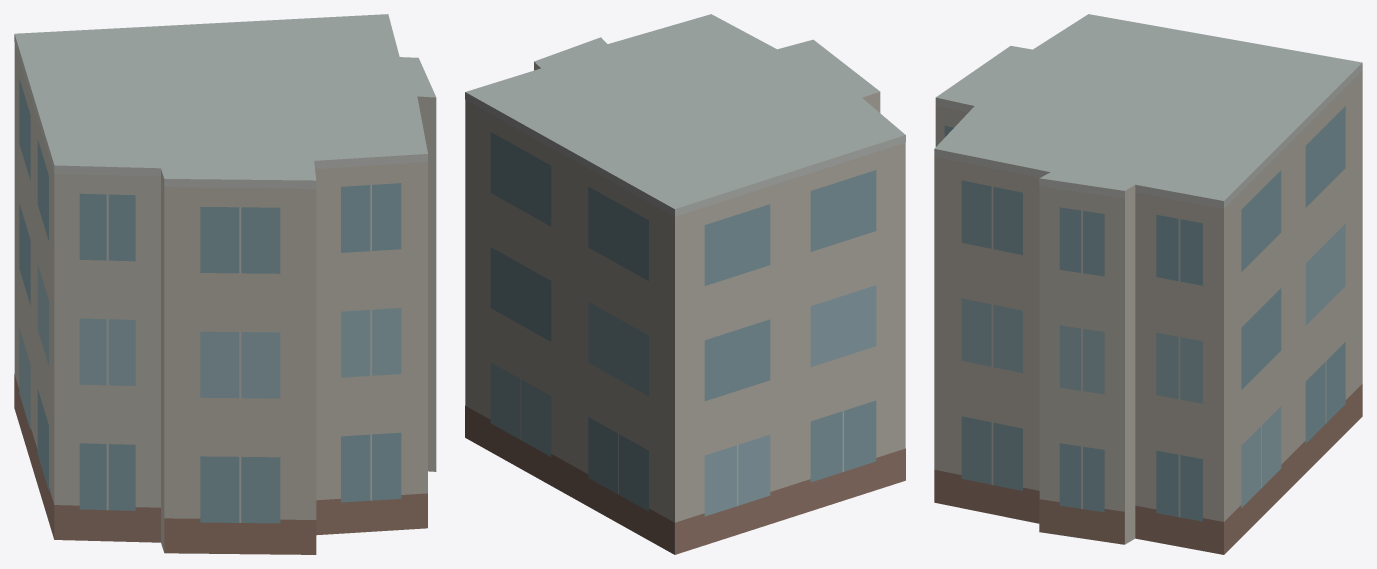
File: survey-upis-33024167.glb
The picture shows the model from 3 angles, left to right: view 1: azimuth 30°, elevation 25°; view 2: azimuth 150°, elevation 25°; view 3: azimuth 270°, elevation 25°; orthographic projection. The views are drawn at different scales.
Visible parts, largest first — view 1: survey-upis-33024167.tmp; view 2: survey-upis-33024167.tmp; view 3: survey-upis-33024167.tmp.
Boxes of the visible parts, bbox=[...] form: survey-upis-33024167.tmp: bbox=[14, 14, 436, 554]; survey-upis-33024167.tmp: bbox=[465, 14, 905, 554]; survey-upis-33024167.tmp: bbox=[934, 14, 1362, 554].
Bounding box in the file's own units: 12.65 × 11.15 × 12.24.
